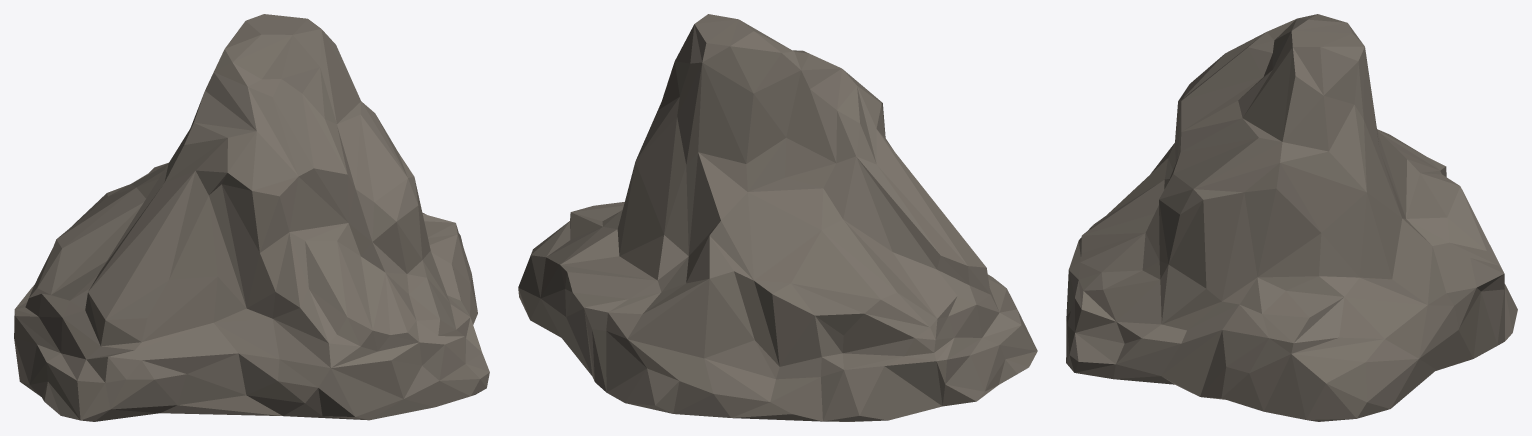
Rendered from SM_Env_Rock_Huge_01.fbx.glb.
The picture shows the model from 3 angles, left to right: view 1: azimuth 30°, elevation 25°; view 2: azimuth 150°, elevation 25°; view 3: azimuth 270°, elevation 25°; orthographic projection.
Visible parts, largest first — view 1: node_id4; view 2: node_id4; view 3: node_id4.
Boxes of the visible parts, x1,y1,x2,y2 form: node_id4: [14, 14, 489, 421]; node_id4: [518, 14, 1037, 421]; node_id4: [1066, 14, 1517, 421].
Bounding box in the file's own units: 0.512 × 0.3294 × 0.4439.
Materials: 1 (1 with a texture image).
